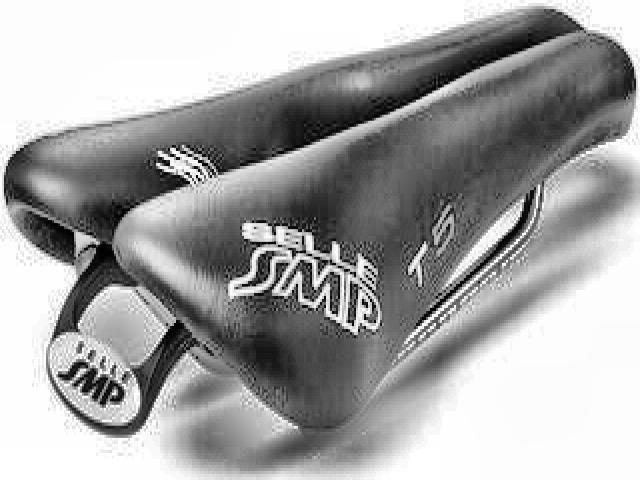saddle: (2, 8, 638, 440)
